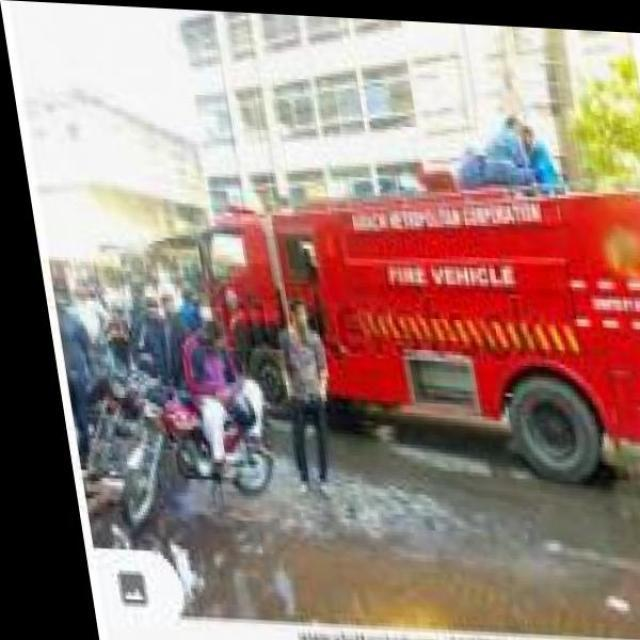emergency: (195, 167, 638, 486)
